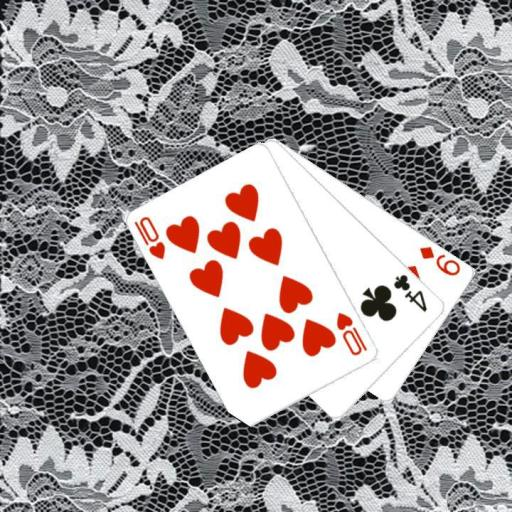10H: (131, 213, 168, 262), (334, 309, 369, 358)
4C: (391, 271, 430, 314)
9D: (417, 243, 463, 278)
